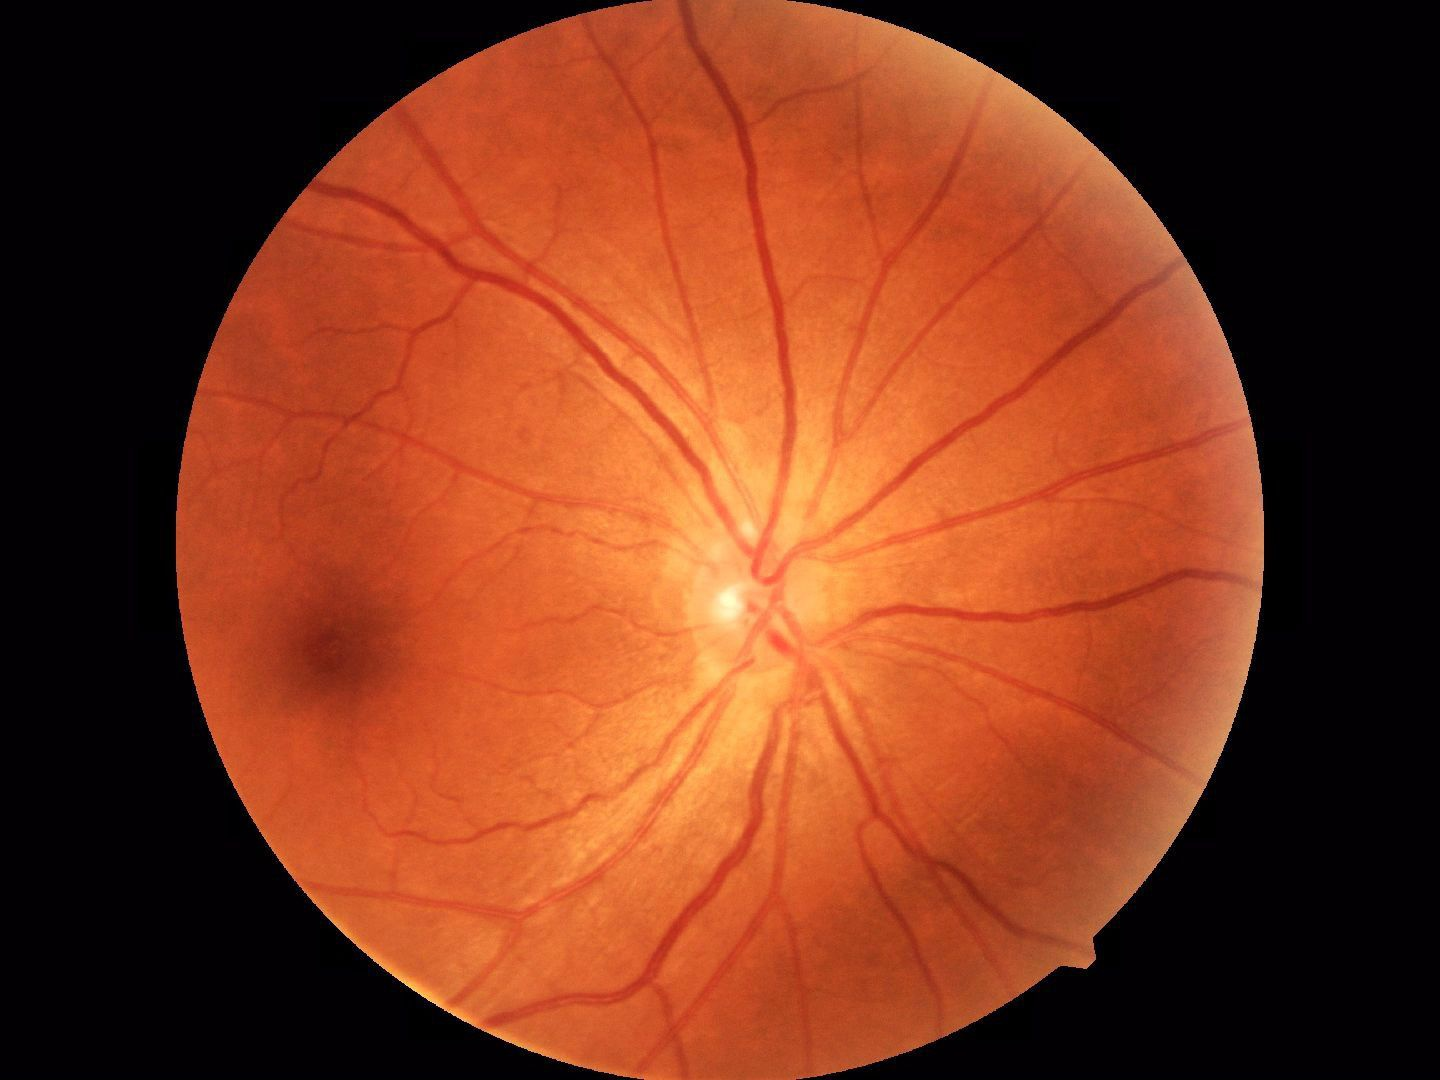Arterioles: (421, 788, 642, 944)
Hemorrhages: (276, 562, 418, 694)
Optic-Disc: (693, 530, 822, 677)
Venules: (498, 284, 934, 489), (708, 735, 907, 944)
